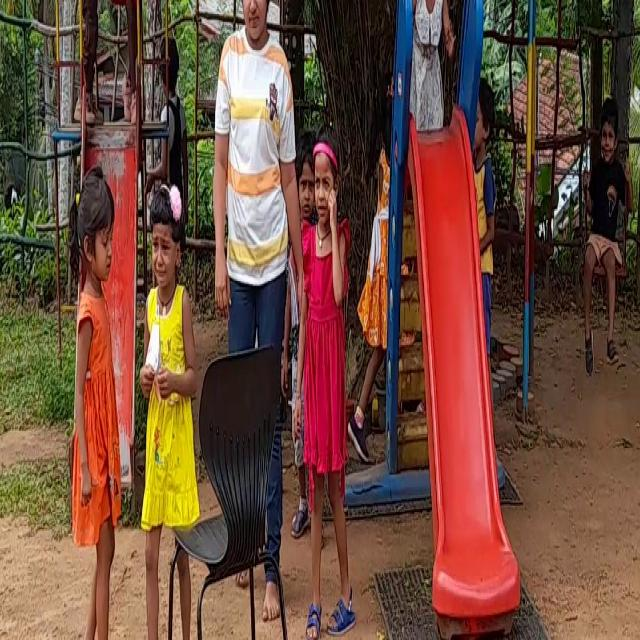adult: (208, 0, 292, 348)
child: (60, 167, 130, 640), (306, 114, 359, 640), (142, 164, 194, 640), (581, 56, 626, 389), (111, 0, 156, 117), (413, 0, 450, 140), (76, 0, 100, 117)
